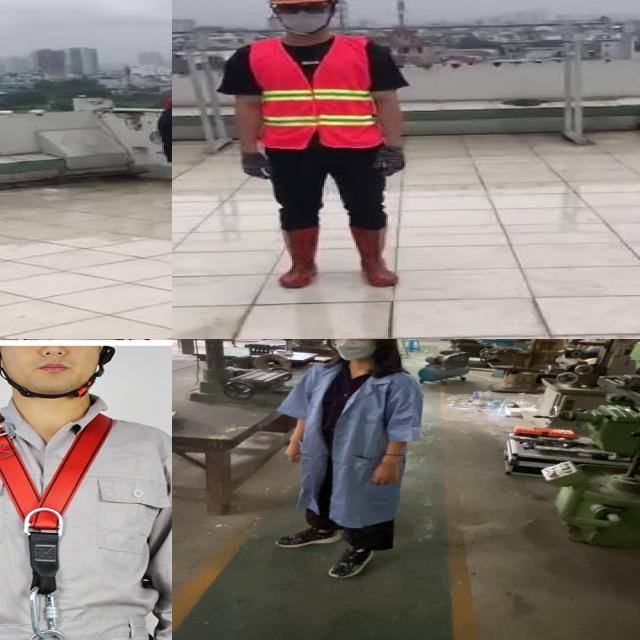Harness: (0, 410, 135, 640)
boots: (349, 226, 402, 287), (280, 227, 318, 290)
face_mask: (275, 0, 330, 33), (327, 339, 378, 360)
glasses: (272, 1, 336, 18), (327, 339, 378, 346)
hand_glove: (376, 141, 408, 178), (237, 153, 271, 179)
hand_noglove: (369, 464, 400, 487), (282, 444, 306, 464)
person: (216, 0, 422, 294), (271, 339, 427, 581)
shoes: (270, 524, 346, 550), (326, 545, 379, 577)
vest: (246, 31, 381, 148)
